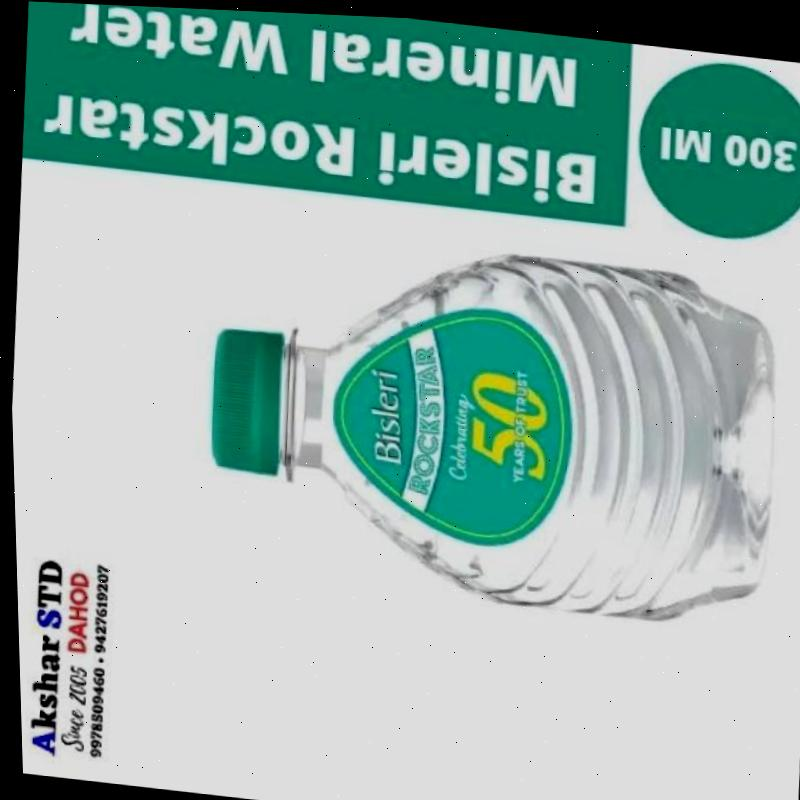botella: (190, 213, 788, 632)
